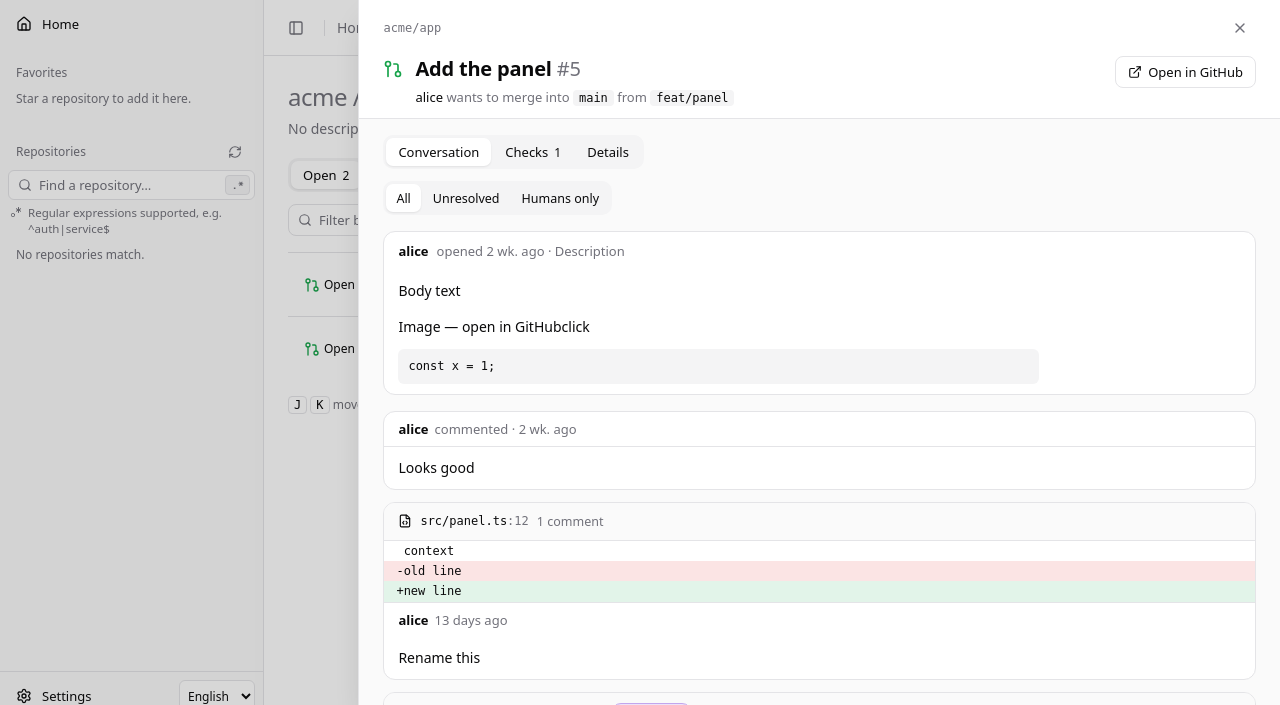
Test case: the Details tab shows GitHub's exact merge state, reviewers and facts
Step 1. Click the tab "Details" → (608, 152), box [575,138,641,166]
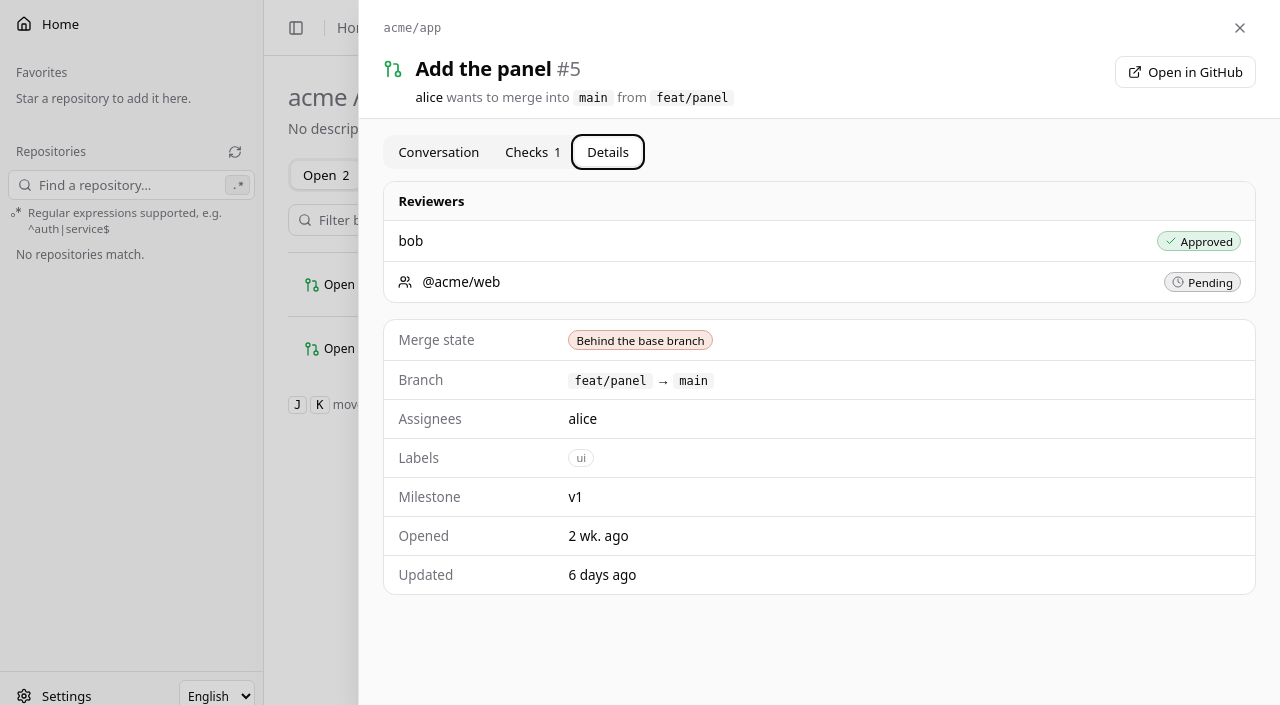
Expected: the text "Behind the base branch" is shown, [568,330,713,350]
Expected: the text "bob" is shown, [398,232,423,250]
Expected: the text "Pending" is shown, [1164,272,1241,292]
